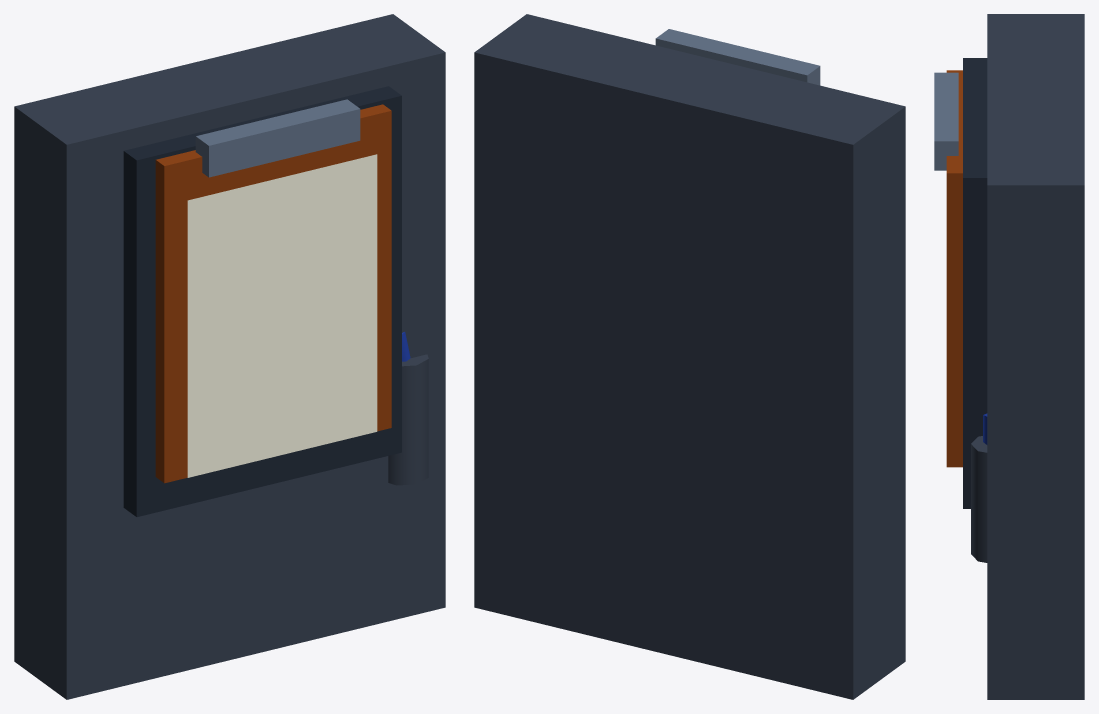
Rendered from yard-manifest-body-authored-atlas.glb.
3 views of the same model, side by side, from view 1: azimuth 30°, elevation 25°; view 2: azimuth 150°, elevation 25°; view 3: azimuth 270°, elevation 25° (orthographic). The views are drawn at different scales.
Visible parts, largest first — view 1: Authored surface.030; view 2: Authored surface.030; view 3: Authored surface.030.
Part boxes in pixels (x1,y1,x2,y2): Authored surface.030: [14, 14, 445, 699]; Authored surface.030: [474, 14, 905, 699]; Authored surface.030: [934, 14, 1084, 699].
Size of the model in its own units: 0.5 by 0.7 by 0.185.
Materials: 1 (1 with a texture image).
